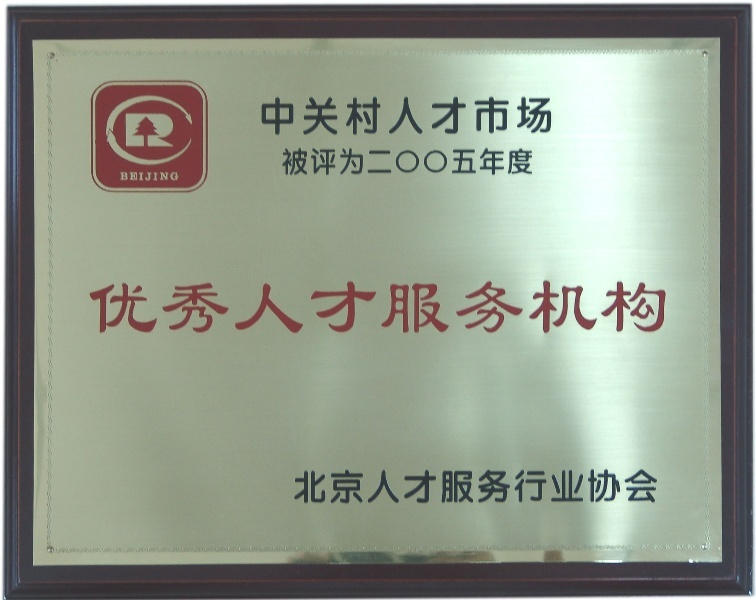text: (97, 279, 112, 336), (113, 279, 128, 336), (129, 279, 144, 336), (145, 279, 160, 336), (161, 279, 176, 336), (177, 279, 192, 336), (193, 279, 208, 336), (209, 279, 224, 336), (225, 279, 240, 336), (241, 279, 256, 336), (257, 279, 272, 336), (273, 279, 288, 336), (289, 279, 304, 336), (305, 279, 320, 336), (321, 279, 336, 336), (337, 279, 352, 336), (353, 279, 368, 336), (369, 279, 384, 336), (385, 279, 400, 336), (401, 279, 416, 336), (417, 279, 432, 336), (433, 279, 448, 336), (449, 279, 464, 336), (465, 279, 480, 336), (481, 279, 496, 336), (497, 279, 512, 336), (513, 279, 528, 336), (529, 279, 544, 336), (545, 279, 560, 336), (561, 279, 576, 336), (577, 279, 592, 336), (593, 279, 608, 336), (609, 279, 624, 336), (625, 279, 640, 336), (641, 279, 656, 336), (657, 279, 669, 336), (273, 96, 288, 136), (289, 96, 304, 136), (305, 96, 320, 136), (321, 96, 336, 136), (337, 96, 352, 136), (353, 96, 368, 136), (369, 96, 384, 136), (385, 96, 400, 136), (401, 96, 416, 136), (417, 96, 432, 136), (433, 96, 448, 136), (449, 96, 464, 136), (465, 96, 480, 136), (481, 96, 496, 136), (497, 96, 512, 136), (513, 96, 528, 136), (529, 96, 544, 136), (305, 470, 320, 506), (321, 470, 336, 506), (337, 470, 352, 506), (353, 470, 368, 506), (369, 470, 384, 506), (385, 470, 400, 506), (401, 470, 416, 506), (417, 470, 432, 506), (433, 470, 448, 506), (449, 470, 464, 506), (465, 470, 480, 506), (481, 470, 496, 506), (497, 470, 512, 506), (513, 470, 528, 506), (529, 470, 544, 506), (545, 470, 560, 506), (561, 470, 576, 506), (577, 470, 592, 506), (593, 470, 608, 506), (609, 470, 624, 506), (625, 470, 640, 506), (641, 470, 656, 506), (289, 147, 304, 177), (305, 147, 320, 177), (321, 147, 336, 177), (337, 147, 352, 177), (353, 147, 368, 177), (369, 147, 384, 177), (385, 147, 400, 177), (401, 147, 416, 177), (417, 147, 432, 177), (433, 147, 448, 177), (449, 147, 464, 177), (465, 147, 480, 177), (481, 147, 496, 177), (497, 147, 512, 177), (513, 147, 528, 177), (262, 96, 272, 136), (545, 96, 555, 136), (294, 470, 304, 506), (90, 279, 96, 336), (529, 147, 535, 177), (283, 147, 288, 177), (129, 172, 144, 182), (145, 172, 160, 182), (161, 172, 176, 182), (657, 470, 660, 506), (121, 172, 128, 182), (177, 172, 180, 182)
